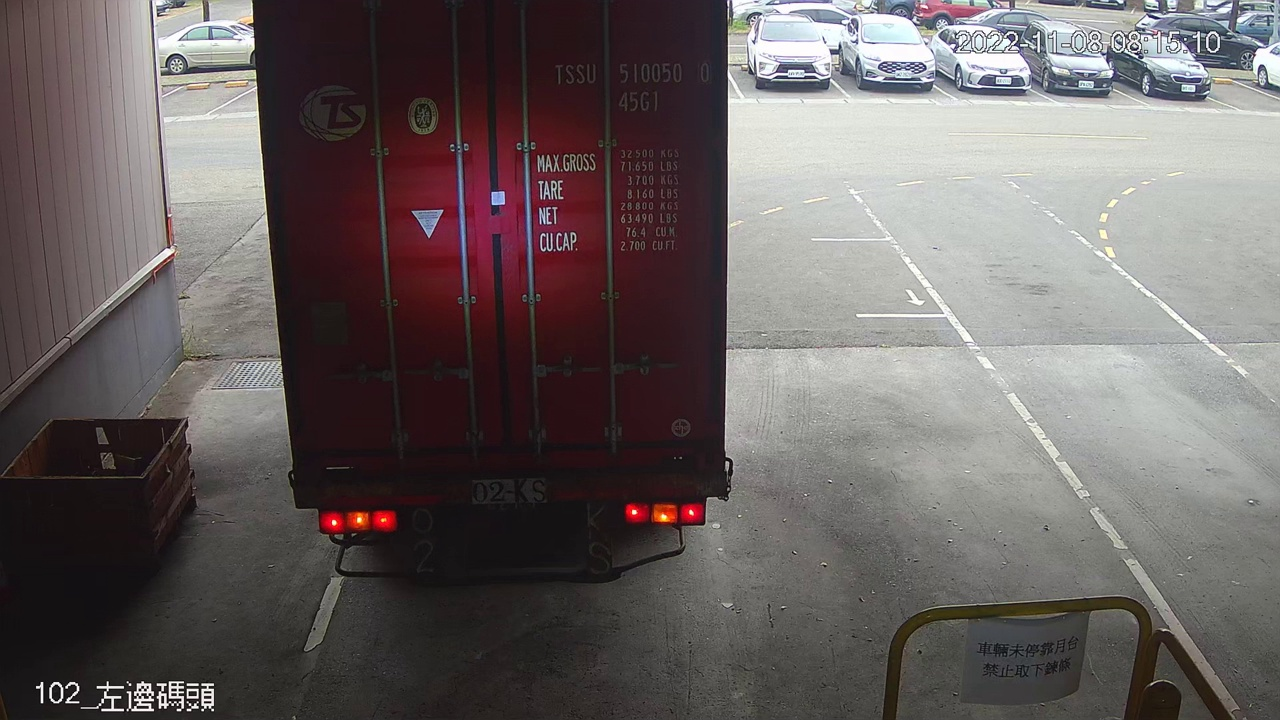container: (547, 52, 715, 119)
